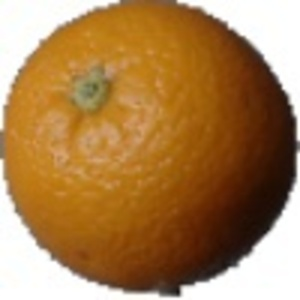laranja: (6, 2, 297, 298)
